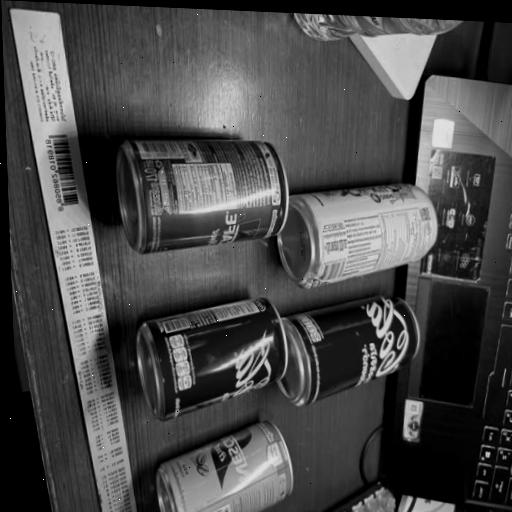bottle: (103, 103, 299, 284), (265, 154, 457, 307), (121, 278, 296, 422), (274, 288, 437, 424), (138, 406, 302, 512)
